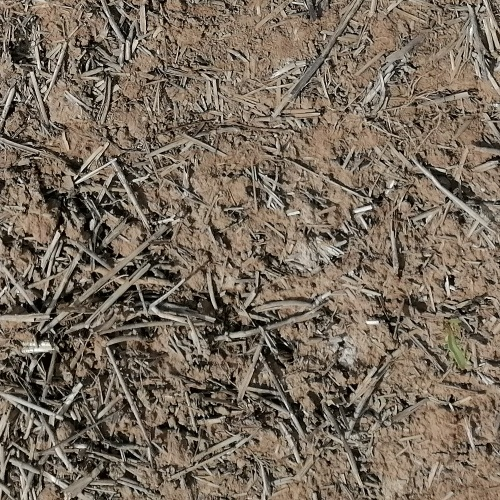beet: (443, 327, 472, 372)
